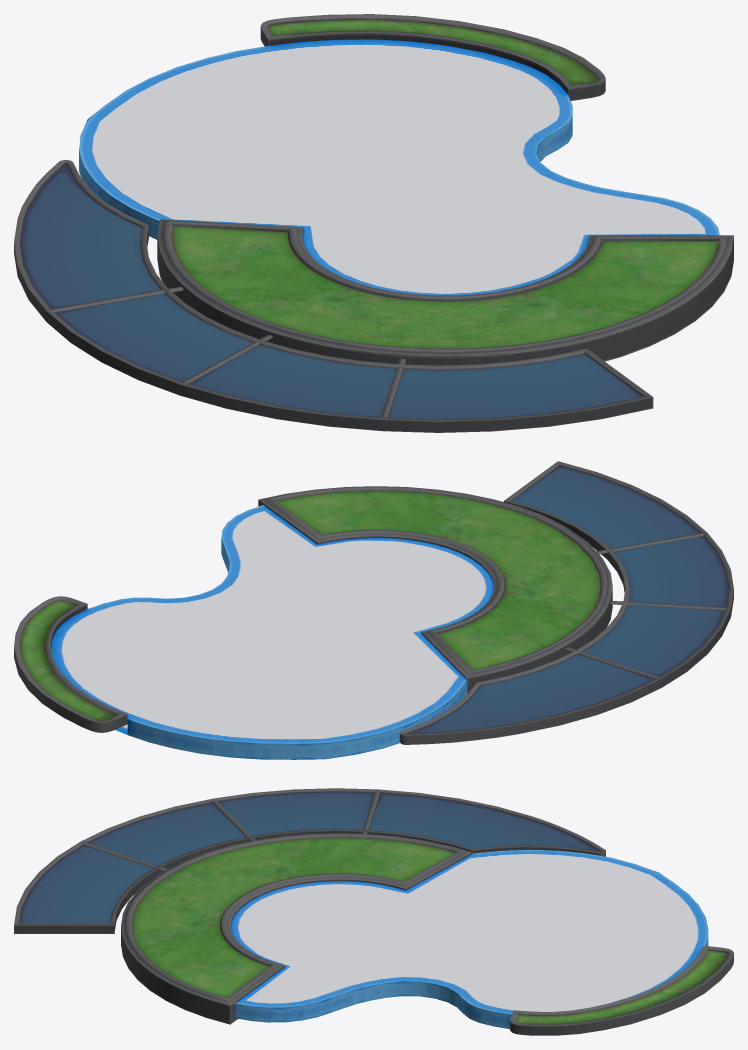
File: mesh_1002_syq_sd008.FBX
3 renders of one model, top to bottom at view 1: azimuth 30°, elevation 25°; view 2: azimuth 150°, elevation 25°; view 3: azimuth 270°, elevation 25°, orthographic. The views are drawn at different scales.
Parts seen in each view (by area): view 1: mesh_1002_syq_sd008; view 2: mesh_1002_syq_sd008; view 3: mesh_1002_syq_sd008.
Part boxes in pixels (x1=…): mesh_1002_syq_sd008: x1=14, y1=14, x2=733, y2=432; mesh_1002_syq_sd008: x1=14, y1=461, x2=733, y2=759; mesh_1002_syq_sd008: x1=14, y1=788, x2=733, y2=1035.
Bounding box in the file's own units: 3207 × 137 × 4008.
